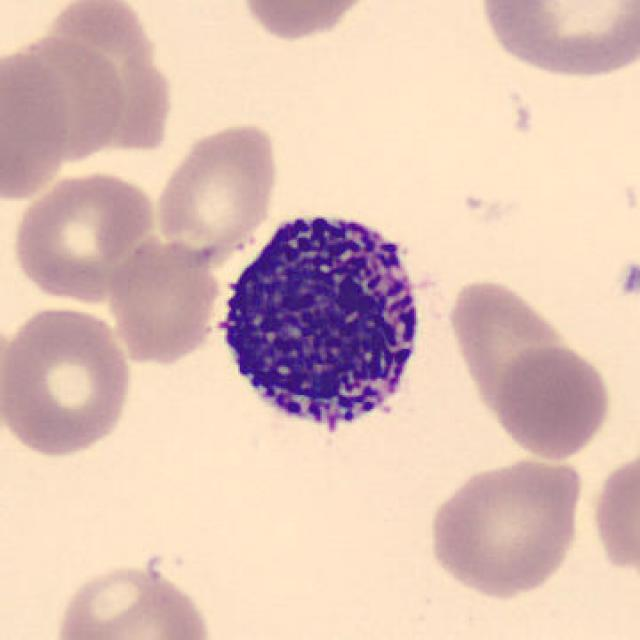Basophil: (199, 192, 437, 462)
Platelets: (613, 254, 640, 307)
RBC: (422, 453, 588, 601), (444, 272, 586, 444), (25, 0, 175, 154), (0, 303, 137, 460), (9, 168, 160, 305), (151, 116, 283, 263), (103, 232, 224, 368), (493, 340, 615, 462), (48, 557, 217, 640), (473, 0, 638, 83), (0, 41, 73, 204), (588, 442, 638, 586), (233, 0, 382, 44)
